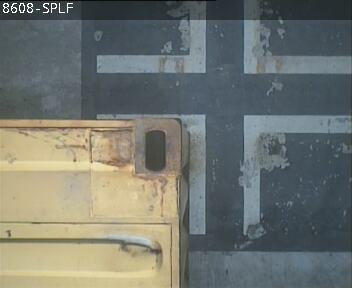groundmarker_1: (97, 114, 352, 236), (96, 1, 352, 73)
